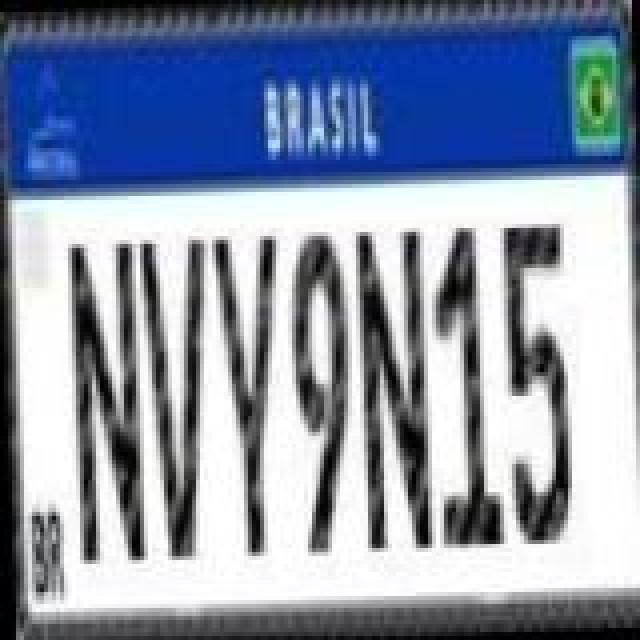1: (422, 224, 498, 564)
5: (494, 216, 570, 544)
9: (282, 220, 358, 560)
N: (64, 230, 144, 570), (354, 224, 430, 552)
V: (136, 226, 216, 566)
Y: (208, 228, 288, 556)
